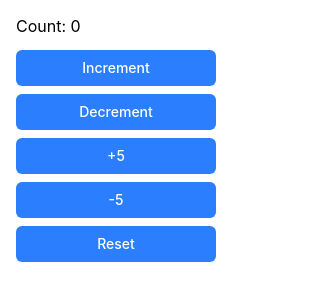
Test case: Count › resets count to 0 when Reset is clicked
Click the button "Increment": (116, 68) [16,50,216,86]
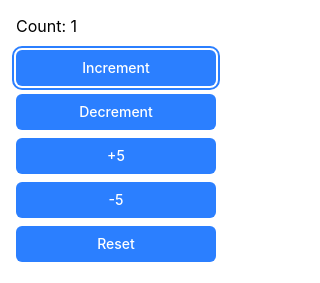
Click the button "Increment": (116, 68) [16,50,216,86]
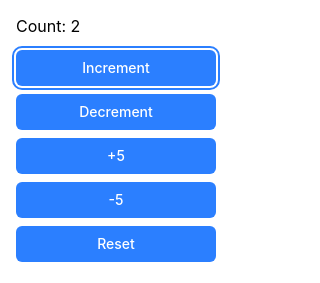
Now the text "Count: 2" is shown, box [16,16,80,36]
Click the button "Reset": (116, 244) [16,226,216,262]
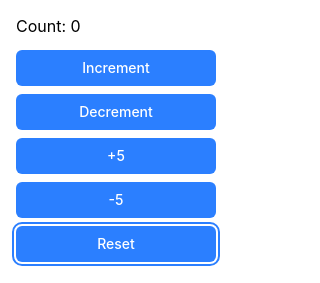
Now the text "Count: 0" is shown, box [16,16,81,36]
